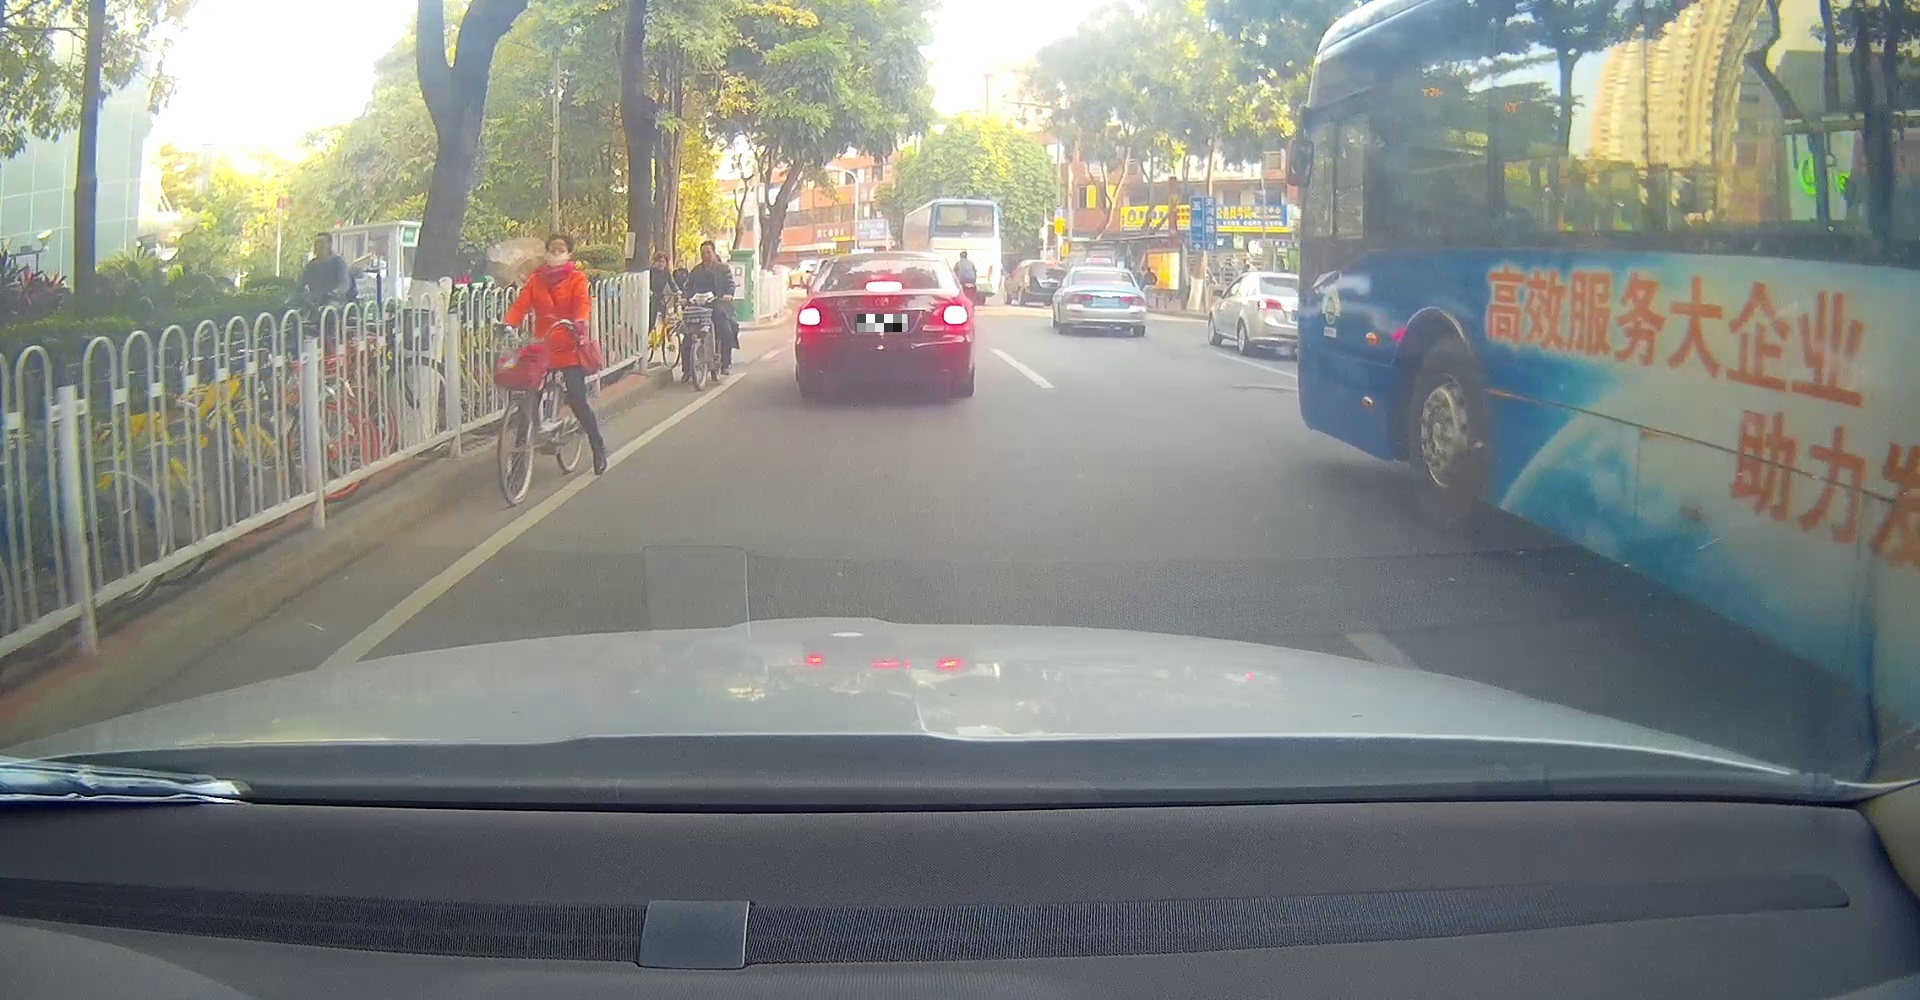L_light: (797, 306, 822, 326), (1067, 293, 1092, 305)
R_light: (943, 305, 969, 325), (1119, 294, 1145, 306)
T_light: (865, 280, 903, 292), (1097, 272, 1109, 274)
day-brake: (795, 251, 971, 398)
day-no: (1064, 266, 1145, 338)
plate_1: (857, 313, 907, 332)
